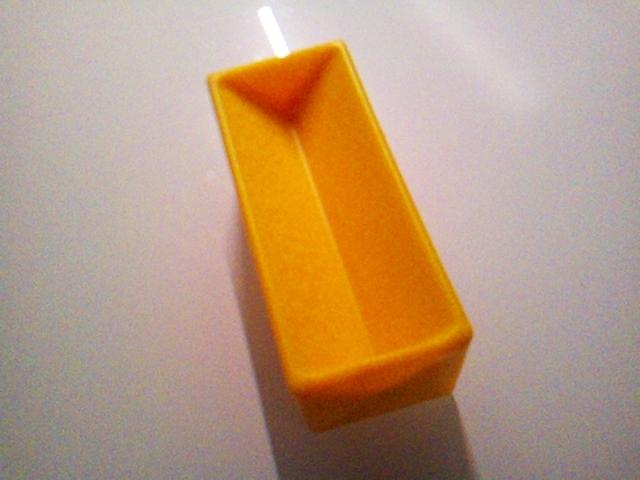yellow: (205, 38, 475, 433)
